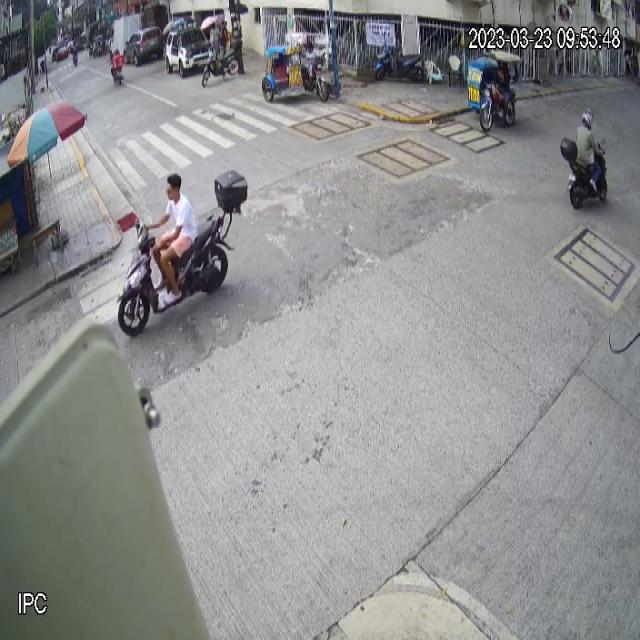Motorcycle: (117, 203, 248, 339), (558, 134, 609, 211)
Tricycle: (262, 31, 331, 104), (467, 50, 523, 133)
